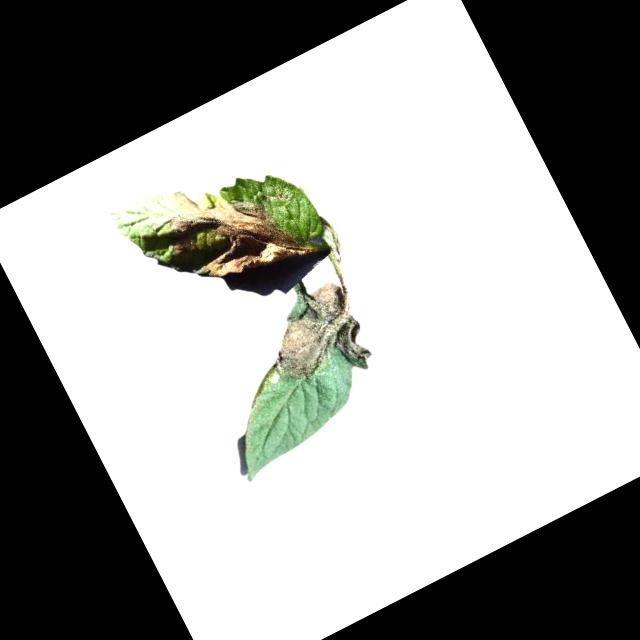Late_blight: (142, 149, 310, 310), (252, 276, 383, 406)
